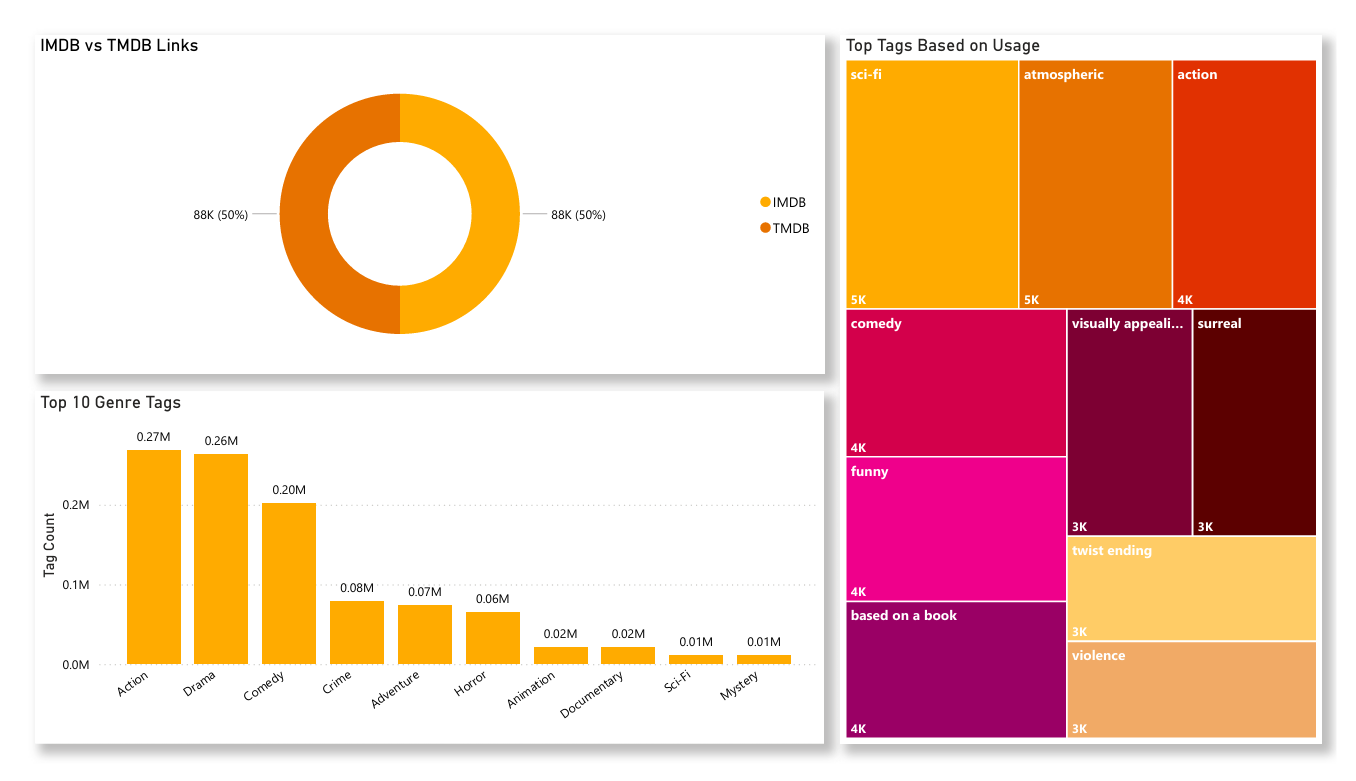

The page's visual inventory and layout, read from the dashboard file:
{"tool":"powerbi","page":{"name":"Page 3","canvas":[1280,720],"ordinal":2},"visuals":[{"type":"donutChart","title":"IMDB vs TMDB Links","fields":{"Y":["Sum(public v_d3_metadata_links.imdb_count)","Sum(public v_d3_metadata_links.tmdb_count)"]},"box":[15.2,11.8,767.3,329.6],"z":0},{"type":"columnChart","title":"Top 10 Genre Tags","fields":{"Category":["public v_d3_tagged_genres.genres"],"Y":["Sum(public v_d3_tagged_genres.tag_count)"]},"box":[14.9,359.5,767,341.2],"z":1000},{"type":"treemap","title":"Top Tags Based on Usage","fields":{"Group":["public v_d3_top_tags.tag"],"Values":["Sum(public v_d3_top_tags.tag_count)"]},"box":[797.8,11.8,468.2,689.6],"z":2000}]}

Visuals, with their boxes in screenshot pixels (x1, y1, x2, y2), scaled from the page's 1280x720 canvas onto the 1356x781 screenshot:
"IMDB vs TMDB Links" donutChart: rect(16, 13, 829, 370)
"Top 10 Genre Tags" columnChart: rect(16, 390, 828, 760)
"Top Tags Based on Usage" treemap: rect(845, 13, 1341, 761)
